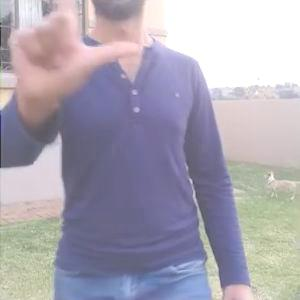land_hand: (2, 0, 146, 109)
